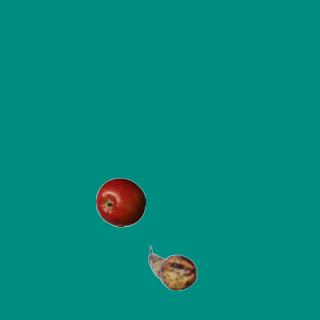Apple Braeburn: (95, 177, 145, 227)
Pear Abate: (147, 243, 197, 293)
